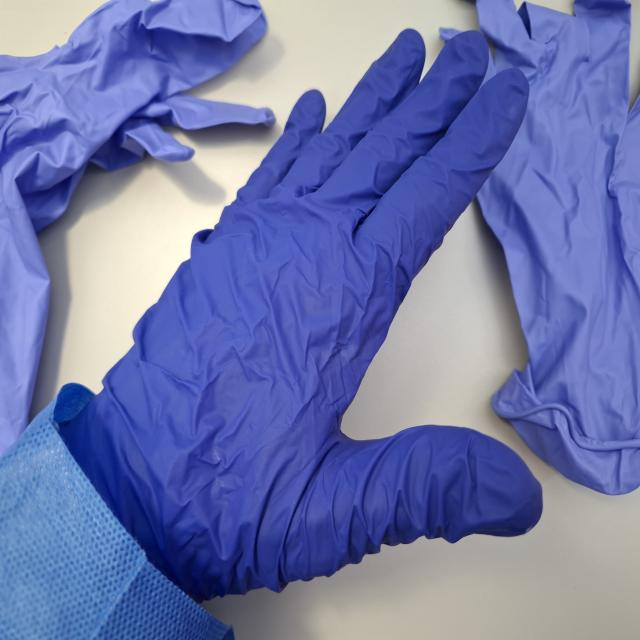glove_on: (56, 21, 546, 616)
